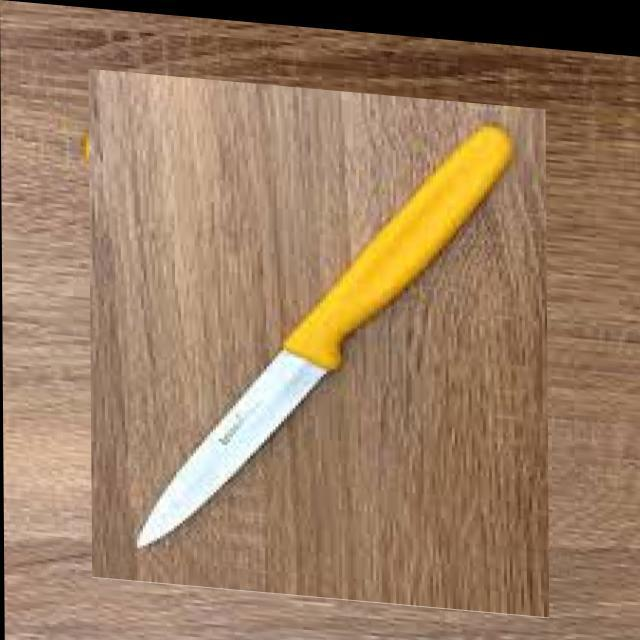knife: (76, 79, 562, 596)
